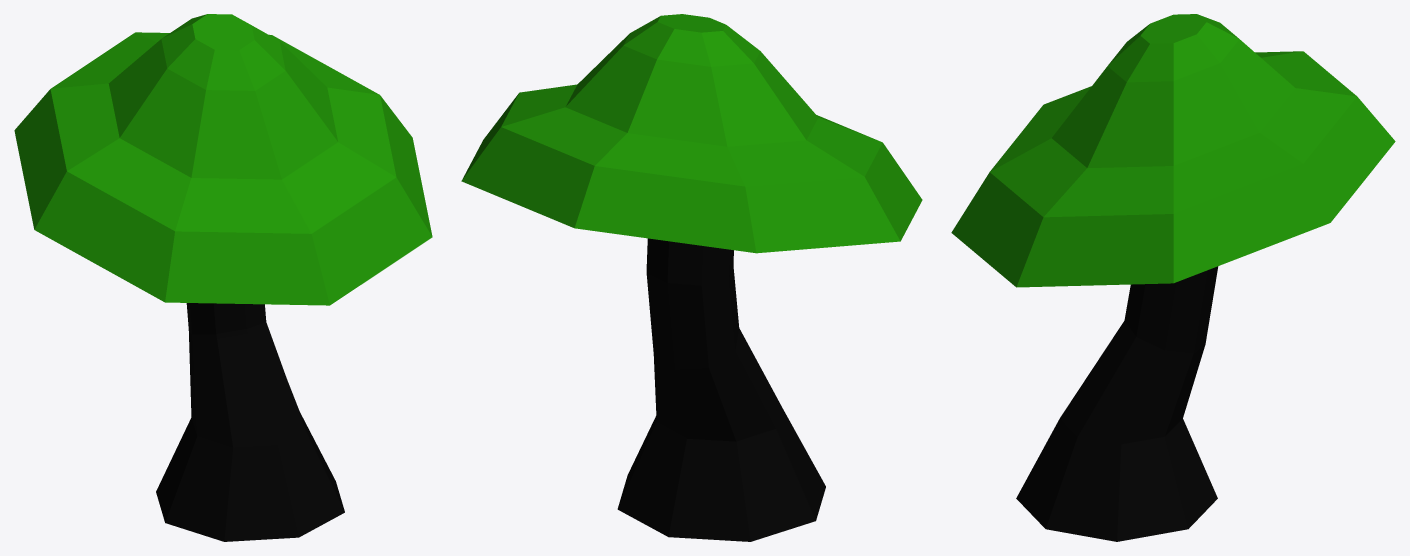
File: Mushroom01_HT.fbx
The picture shows the model from 3 angles, left to right: view 1: azimuth 30°, elevation 25°; view 2: azimuth 150°, elevation 25°; view 3: azimuth 270°, elevation 25°; orthographic projection. The views are drawn at different scales.
Visible parts, largest first — view 1: Mushroom01_HT; view 2: Mushroom01_HT; view 3: Mushroom01_HT.
Boxes of the visible parts, box(x1,y1,x2,y2) form: Mushroom01_HT: box(14, 14, 432, 541); Mushroom01_HT: box(461, 14, 922, 541); Mushroom01_HT: box(951, 14, 1395, 541).
Size of the model in its own units: 38.75 by 44.7 by 37.79.
